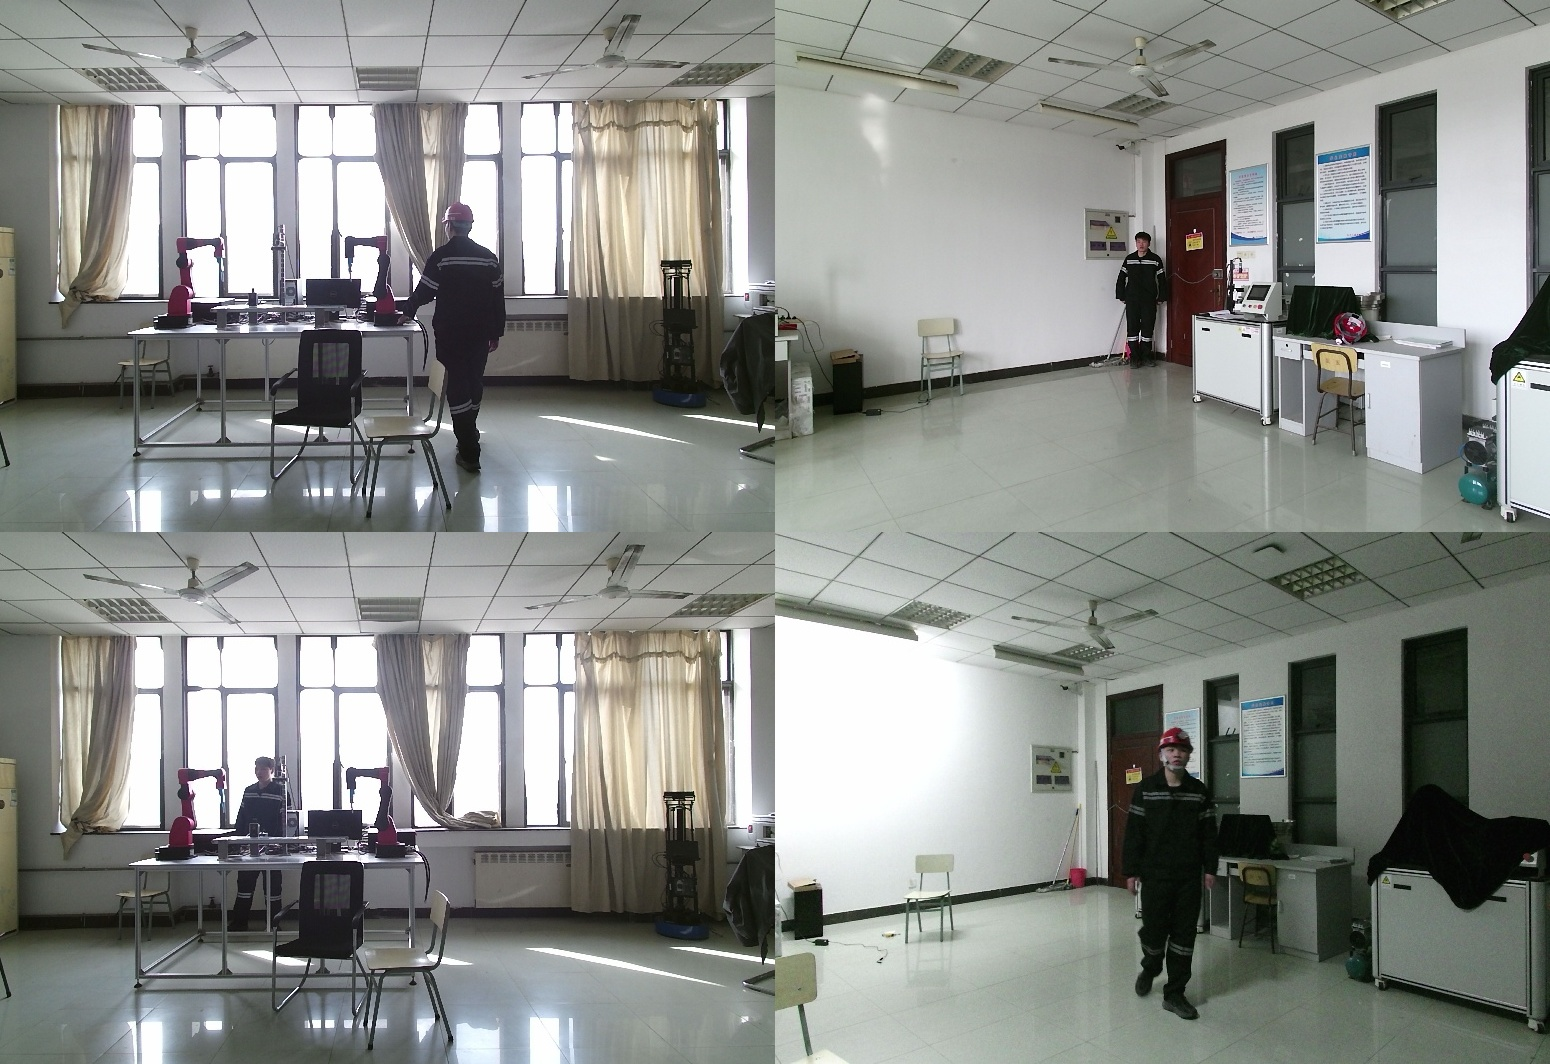person: (1119, 728, 1231, 1016), (408, 203, 516, 478), (229, 756, 297, 934), (1118, 233, 1171, 370)
